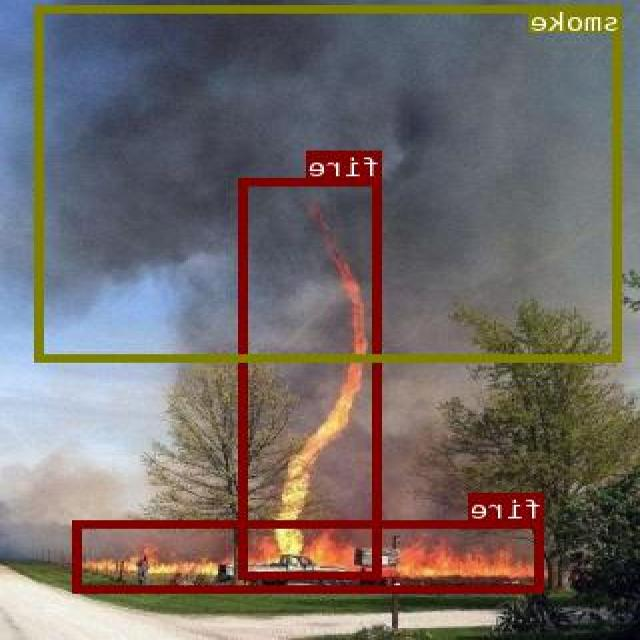fire: (241, 178, 383, 577), (75, 519, 546, 592)
smoke: (38, 4, 622, 360)
